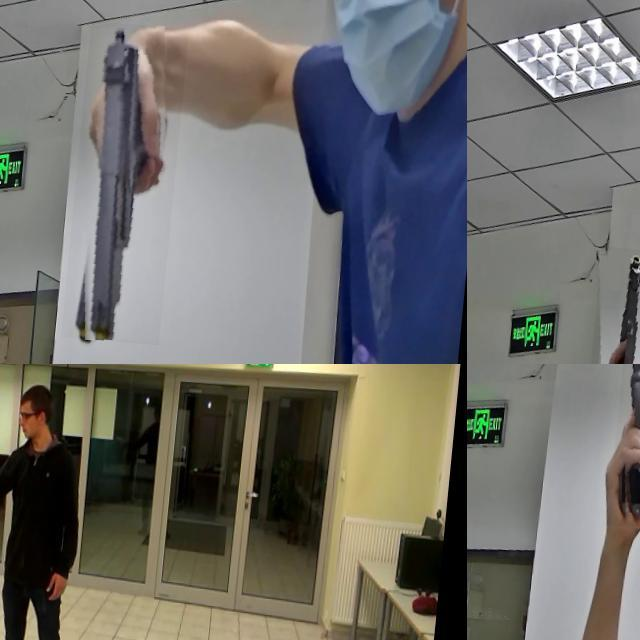gun-knife-thesis - v11 Yolov5 augmented: (72, 16, 194, 339), (594, 241, 640, 364), (617, 364, 640, 523), (0, 462, 19, 496)
